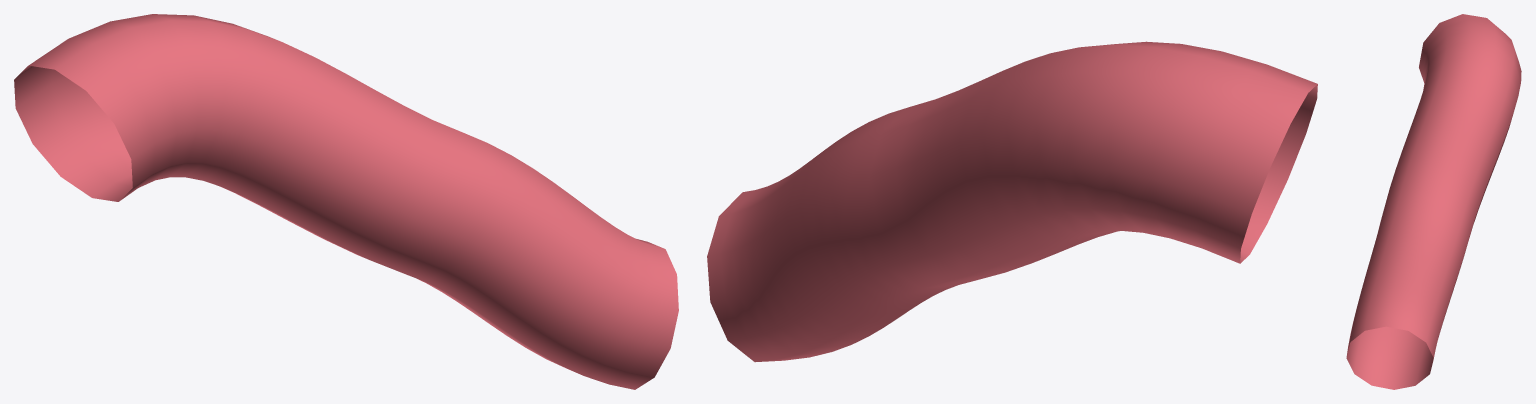
The picture shows the model from 3 angles, left to right: view 1: azimuth 30°, elevation 25°; view 2: azimuth 150°, elevation 25°; view 3: azimuth 270°, elevation 25°; orthographic projection. The views are drawn at different scales.
Visible parts, largest first — view 1: ZA_026a5b5c69c1f6fa; view 2: ZA_026a5b5c69c1f6fa; view 3: ZA_026a5b5c69c1f6fa.
Part boxes in pixels (left/top/right/bottom): ZA_026a5b5c69c1f6fa: left=14, top=14, right=678, bottom=389; ZA_026a5b5c69c1f6fa: left=707, top=41, right=1317, bottom=362; ZA_026a5b5c69c1f6fa: left=1346, top=14, right=1521, bottom=389.
Size of the model in its own units: 0.0153 by 0.0108 by 0.00714.
